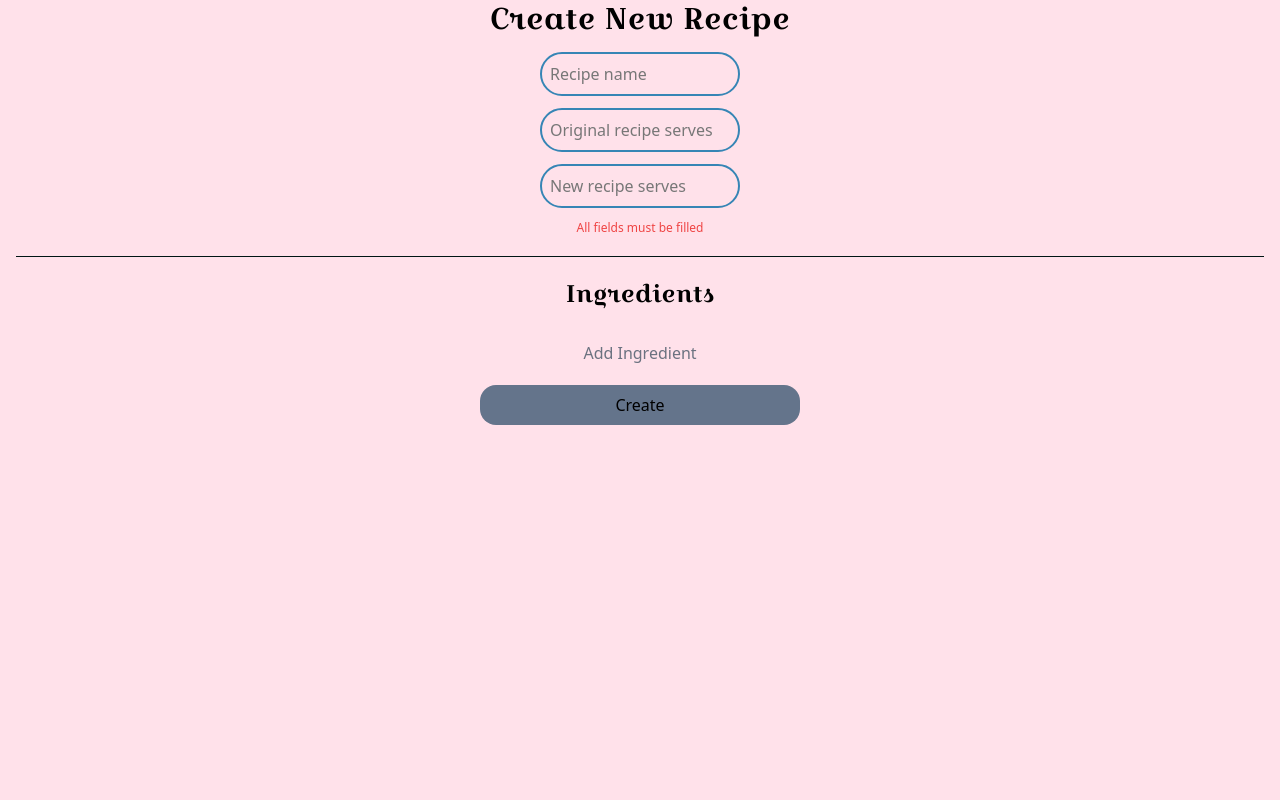
it: New Recipe › AddIngredientsModal › adding Water 500ml should be showing it in the ingredients list
The image size is (1280, 800).
Type "1" into the field with placeholder "Recipe name" at (640, 74), box [540,52,740,96]
Type "1" into the field with placeholder "Original recipe serves" at (640, 130), box [540,108,740,152]
Type "1" into the field with placeholder "New recipe serves" at (640, 186), box [540,164,740,208]
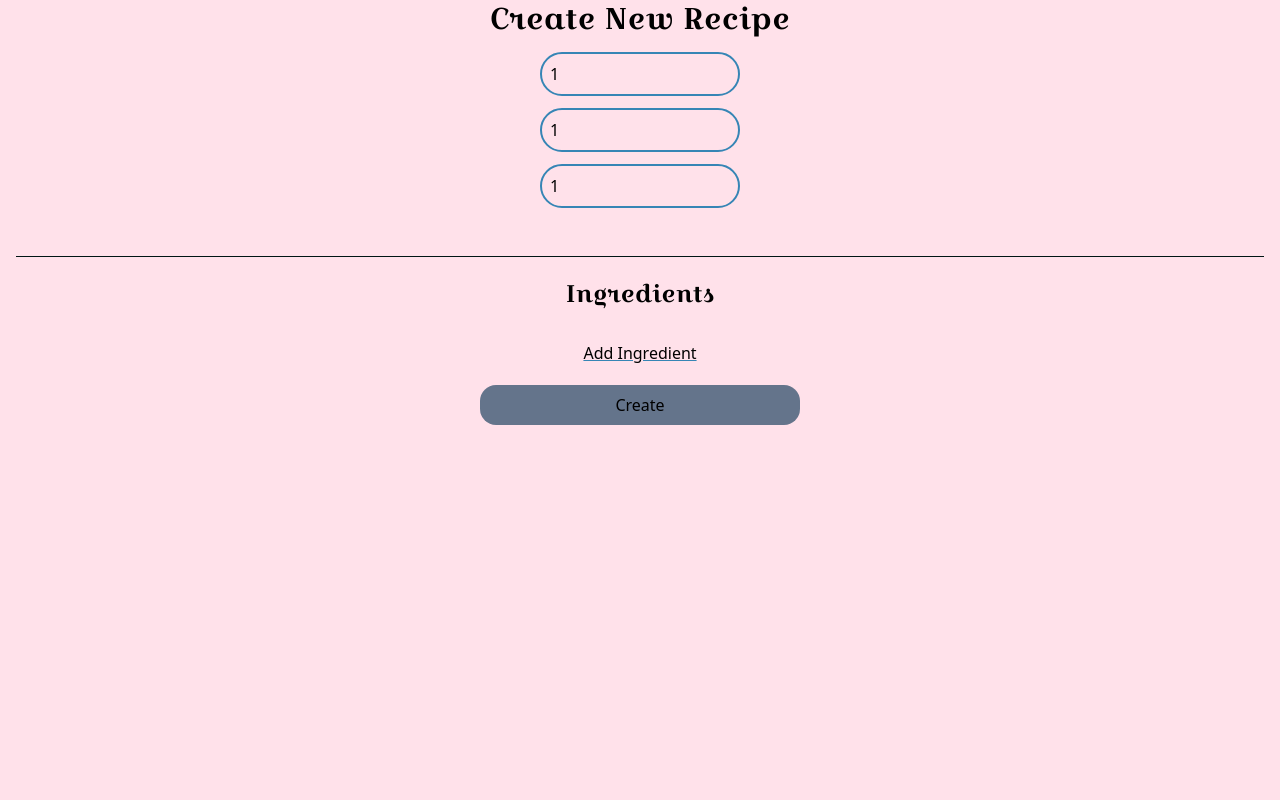
Click the button "Add Ingredient" at (640, 353), box [583,341,697,365]
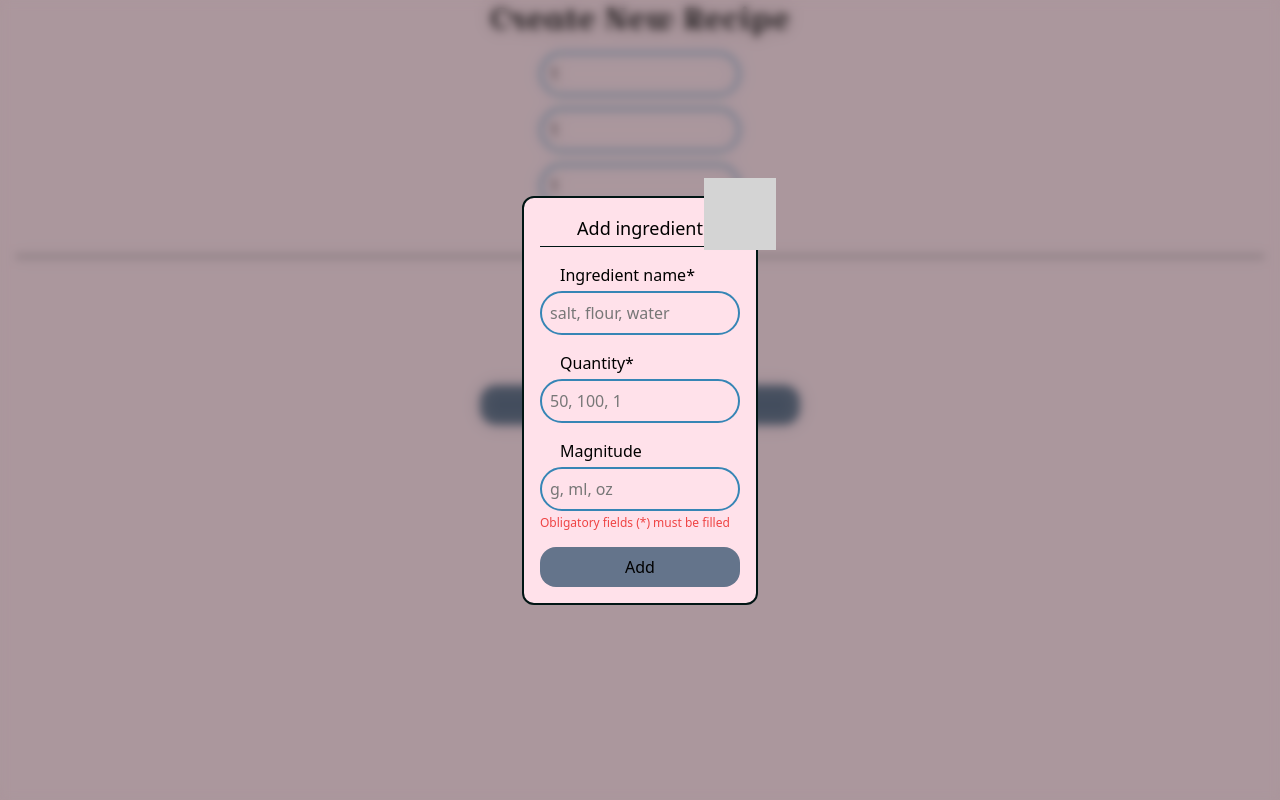
Type "Water" into the field labelled "Ingredient name*" at (640, 312), box [540,290,740,334]
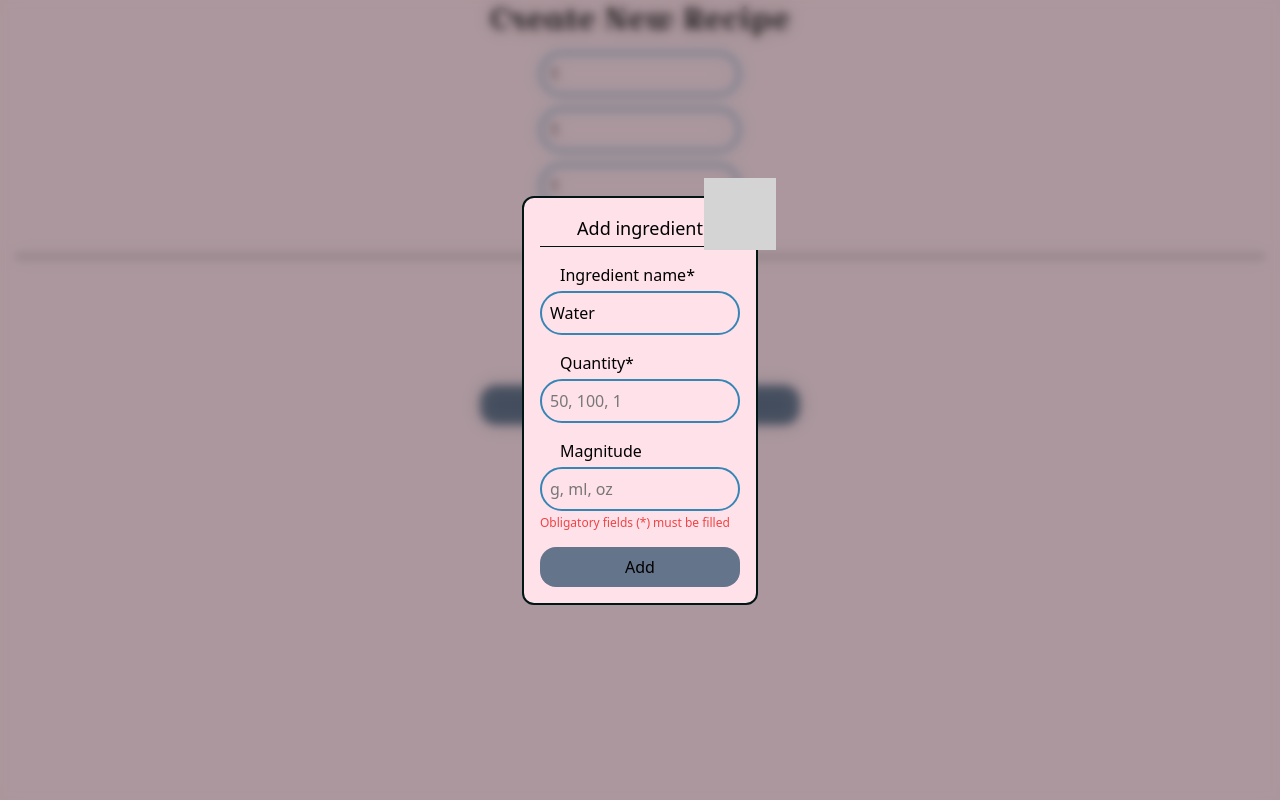
Type "500" into the field labelled "Quantity*" at (640, 400), box [540,378,740,422]
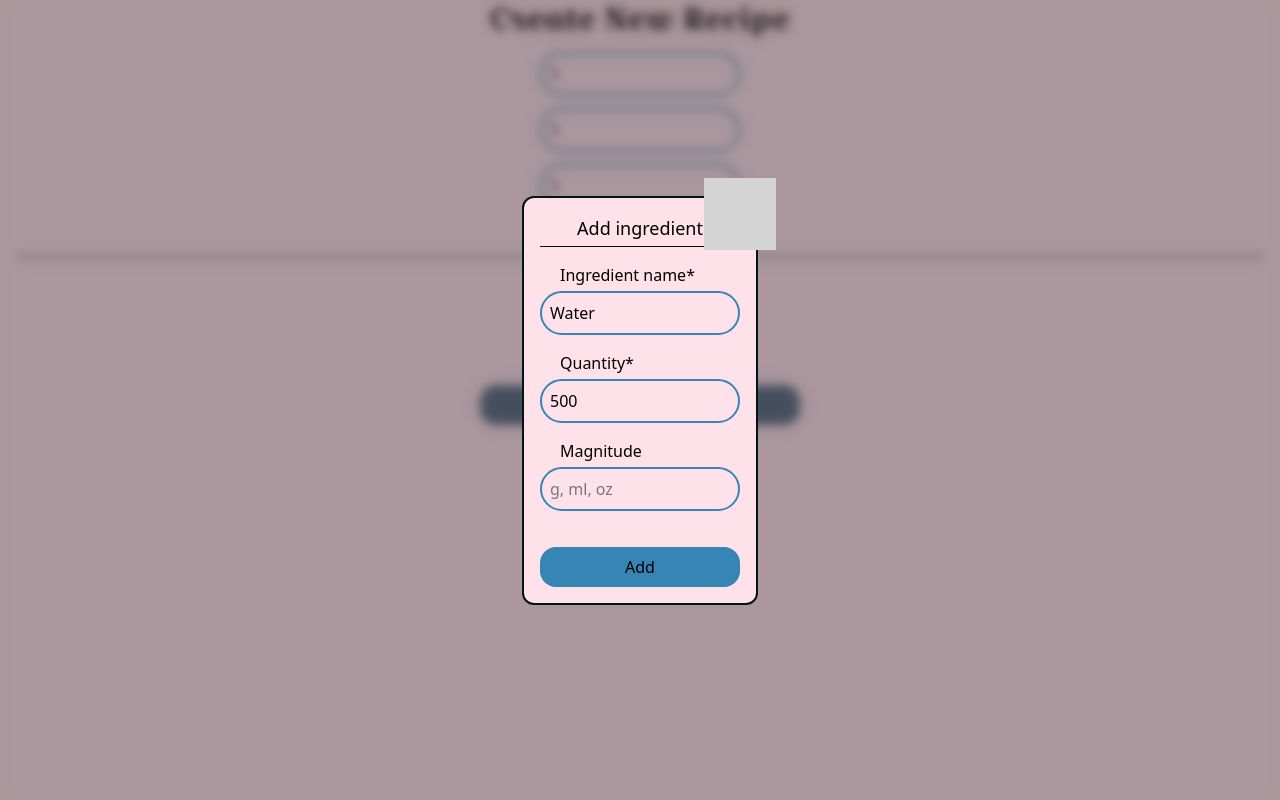
Type "ml" into the field labelled "Magnitude" at (640, 488), box [540,466,740,510]
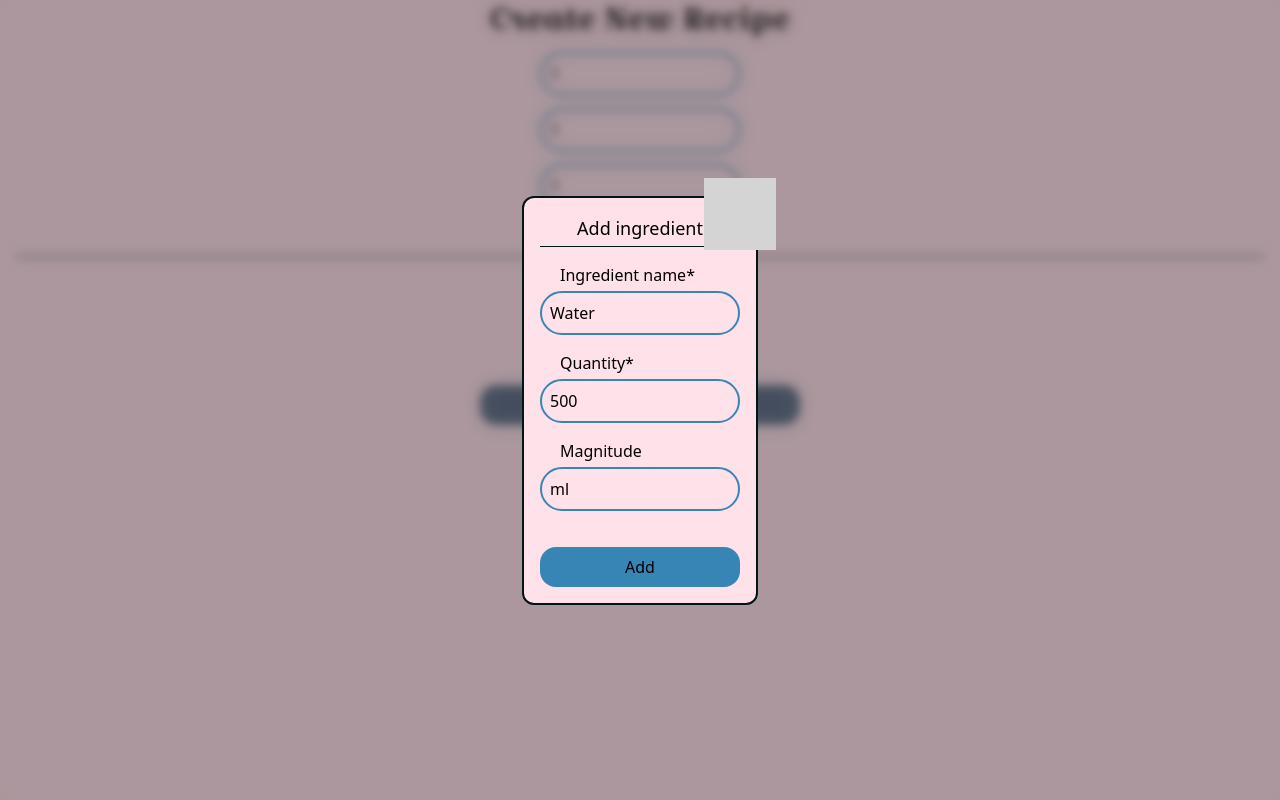
Click the button "Add" at (640, 566), box [540,546,740,586]
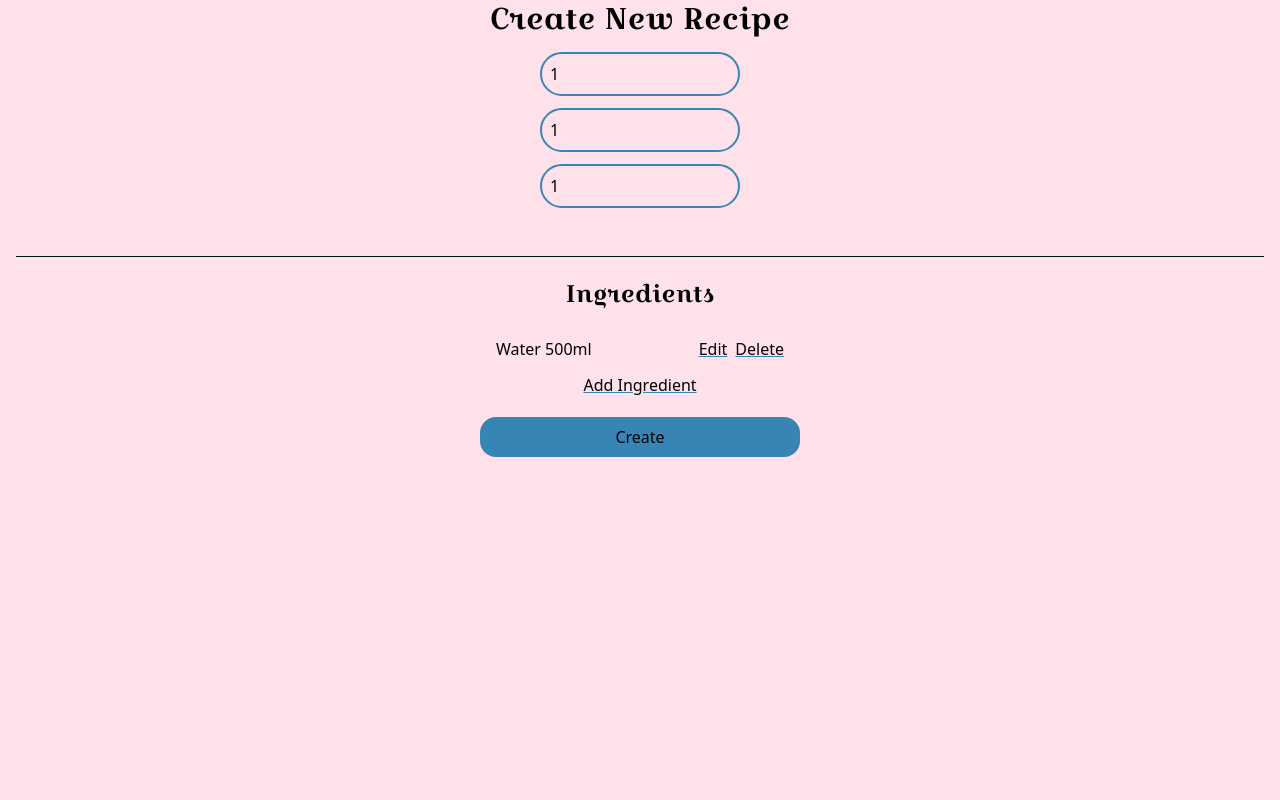
Now the label labelled "Ingredient name" is gone
Now the label labelled "Quantity" is gone
Now the label labelled "Magnitude" is gone
